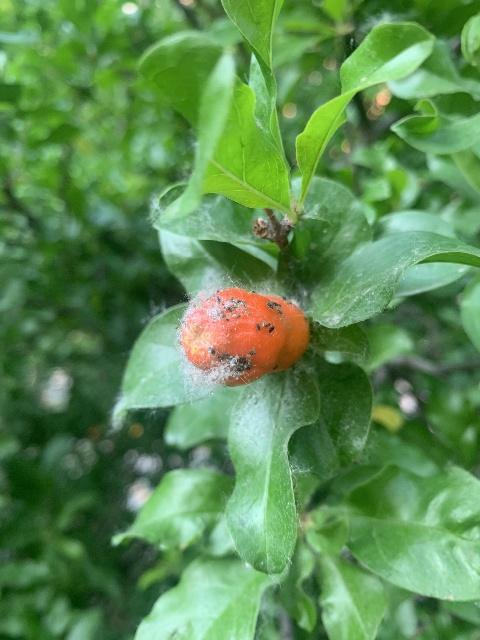bud: (180, 287, 310, 387)
